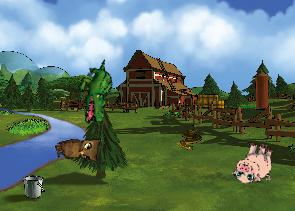crocodile: (72, 59, 120, 125)
owl: (53, 133, 105, 170)
pig: (230, 138, 278, 188)
